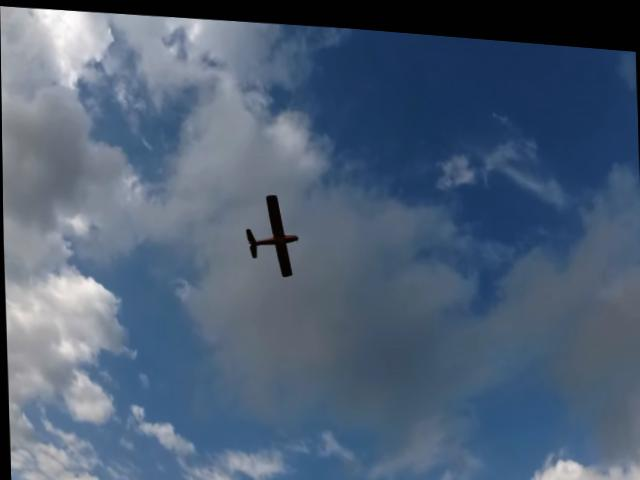plane: (244, 187, 299, 276), (244, 188, 299, 274)
